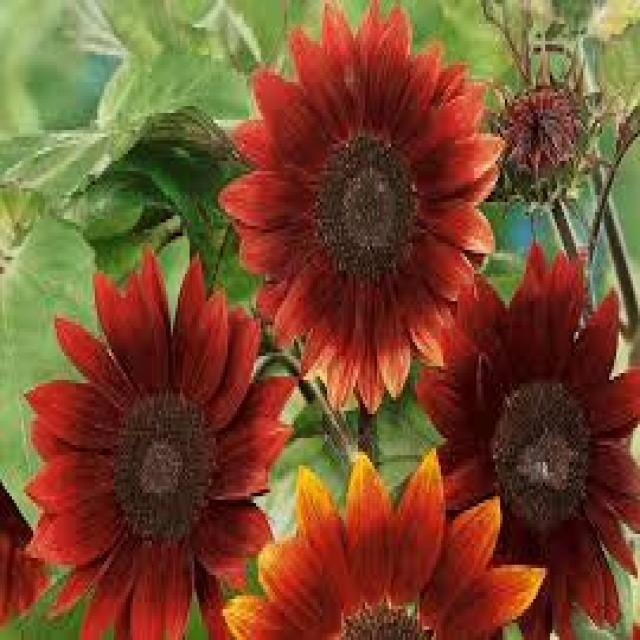sunflower: (218, 0, 510, 421), (19, 236, 304, 640), (398, 232, 640, 640), (218, 438, 548, 640), (482, 72, 606, 209), (1, 478, 52, 640)
